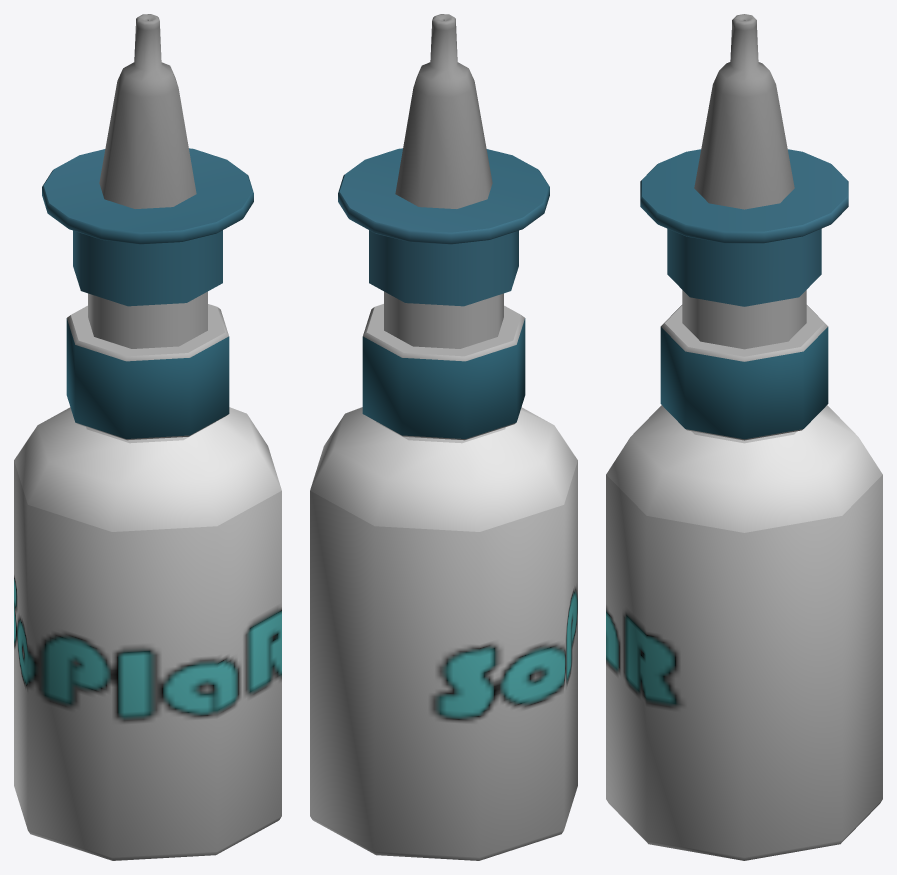
The model's file is MM_NasalSpray.fbx.
3 views of the same model, side by side, from view 1: azimuth 30°, elevation 25°; view 2: azimuth 150°, elevation 25°; view 3: azimuth 270°, elevation 25° (orthographic).
Visible parts, largest first — view 1: spray; view 2: spray; view 3: spray.
Part boxes in pixels (x1,y1,x2,y2): spray: [14, 14, 281, 860]; spray: [310, 14, 577, 860]; spray: [606, 14, 882, 860].
Bounding box in the file's own units: 17.17 × 53.79 × 17.17.
